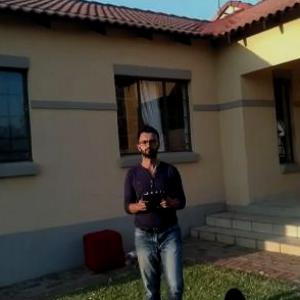follow: (119, 121, 191, 299)
